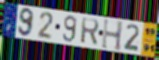2: (123, 24, 140, 53), (37, 11, 54, 40)
9: (17, 7, 35, 39), (62, 15, 78, 43)
H: (101, 17, 125, 52)
R: (80, 17, 101, 47)
